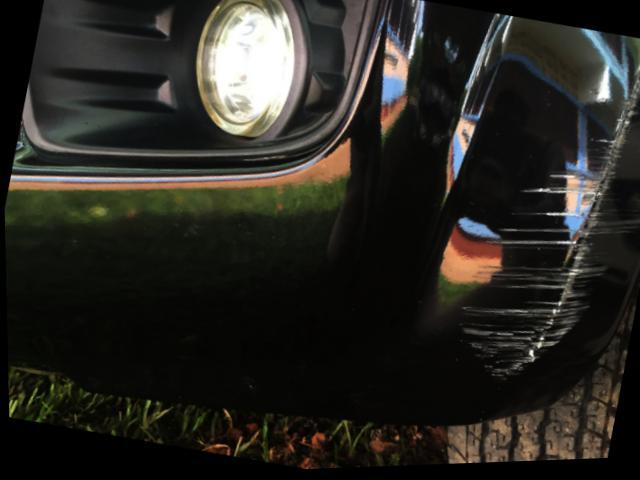rub: (452, 68, 640, 386)
